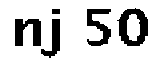0: (114, 7, 152, 52)
5: (82, 7, 112, 49)
j: (40, 5, 70, 60)
n: (12, 14, 42, 48)
